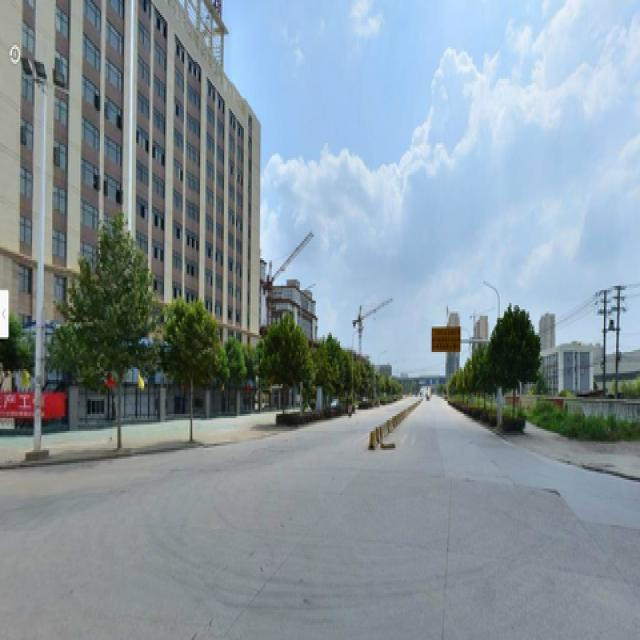meta: (77, 230, 139, 442)
